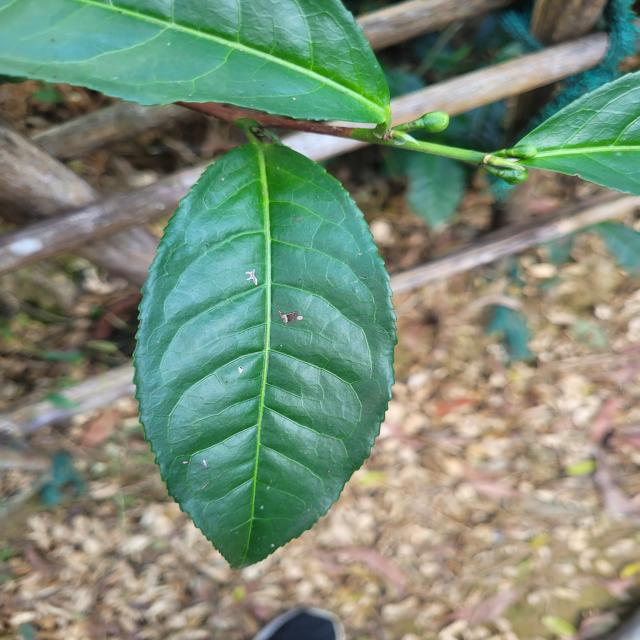Category D(7+ days, Not for Tea): (127, 127, 409, 572)
